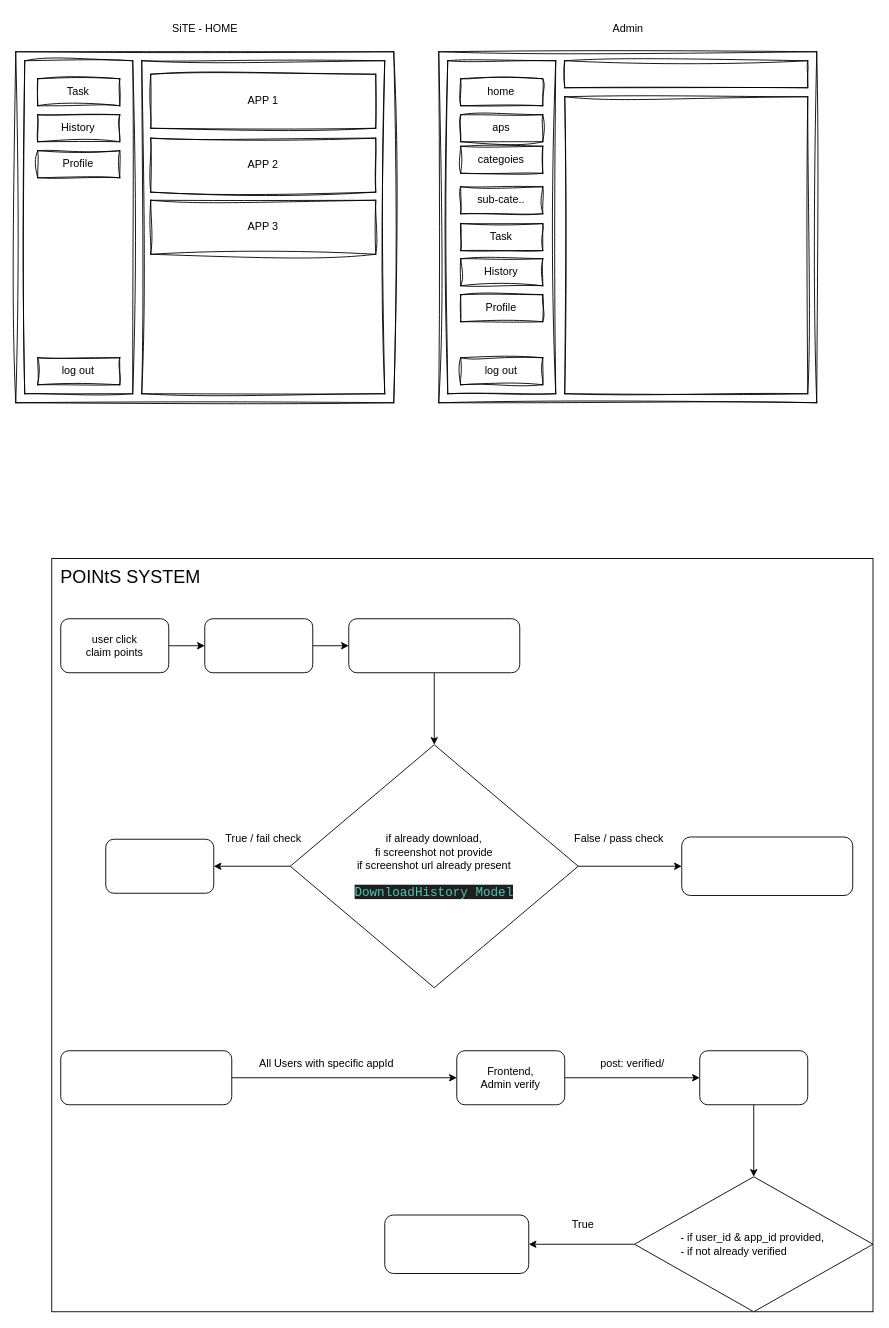
Image size: 889x1328. Some labels were removed from this diagram. Here are the shapes that lost their labels. From the top down, the centre of each, then its label:
At (686,74): "Alert".
At (258,645): "upload screenshot".
At (434,645): "backend { DownloadAppAPIView }".
At (159,865): "reject".
At (767,866): "add to history with is_verified -> False".
At (146,1077): "{ DownloadAppAPIView }".
At (753,1077): "backend".
At (456,1244): "assign points, and set is_verified to true".
